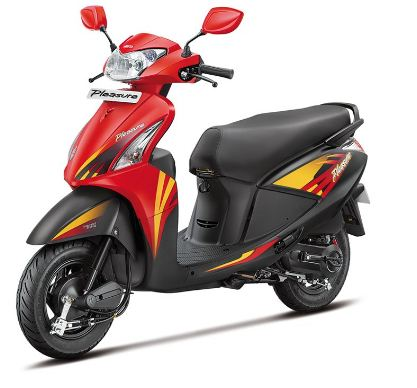bike: (15, 4, 371, 362)
